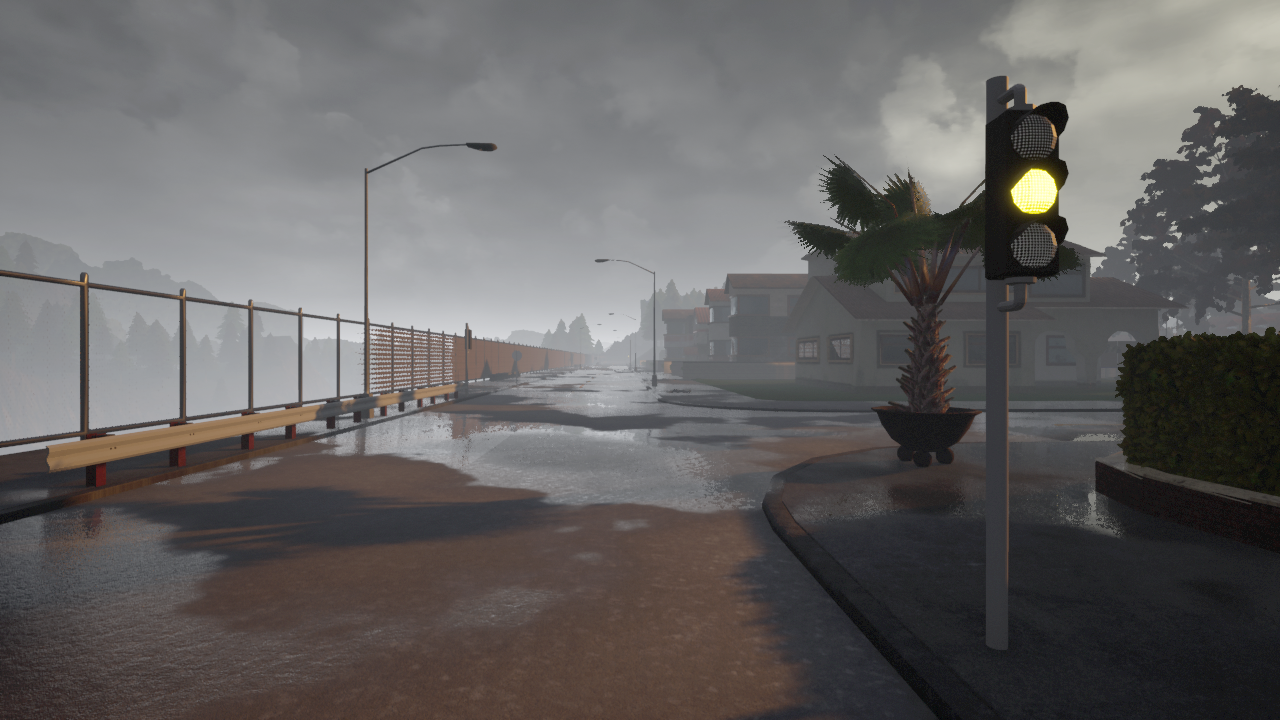yellow: (991, 104, 1071, 280)
